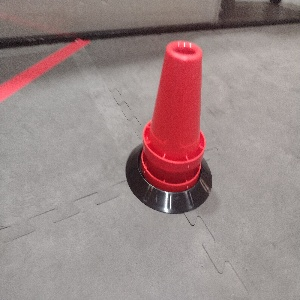Red_2: (142, 35, 206, 191)
